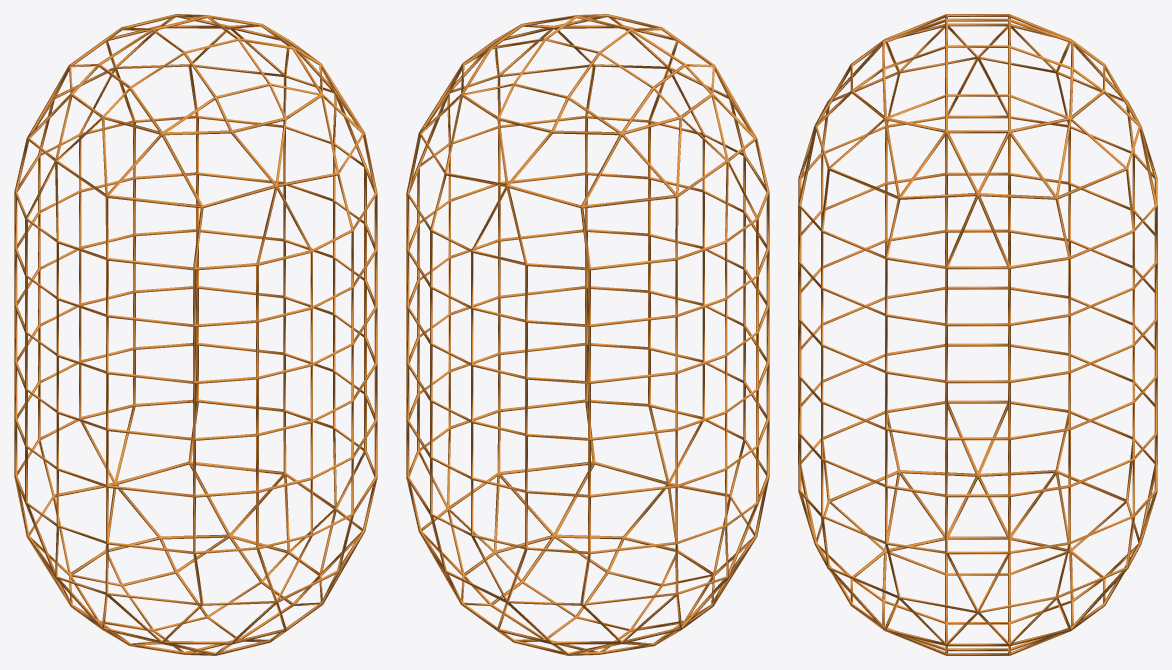
The picture shows the model from 3 angles, left to right: view 1: azimuth 30°, elevation 25°; view 2: azimuth 150°, elevation 25°; view 3: azimuth 270°, elevation 25°; orthographic projection.
Visible parts, largest first — view 1: Mball.001; view 2: Mball.001; view 3: Mball.001.
Boxes of the visible parts, box(x1,y1,x2,y2) form: Mball.001: box(14, 14, 377, 655); Mball.001: box(406, 14, 769, 655); Mball.001: box(798, 14, 1157, 655).
Size of the model in its own units: 2.29 by 4.25 by 2.29.
